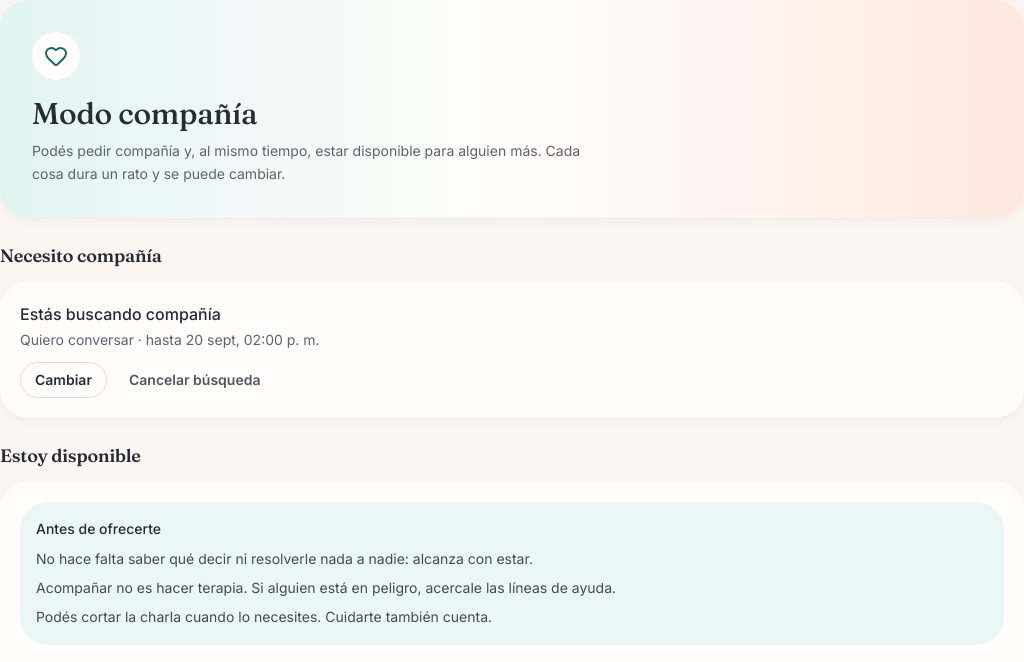
CompanionModePage › keeps the confirmed need when saving fails
Click the button "Cambiar".
click(64, 380)  # box [20,362,107,398]
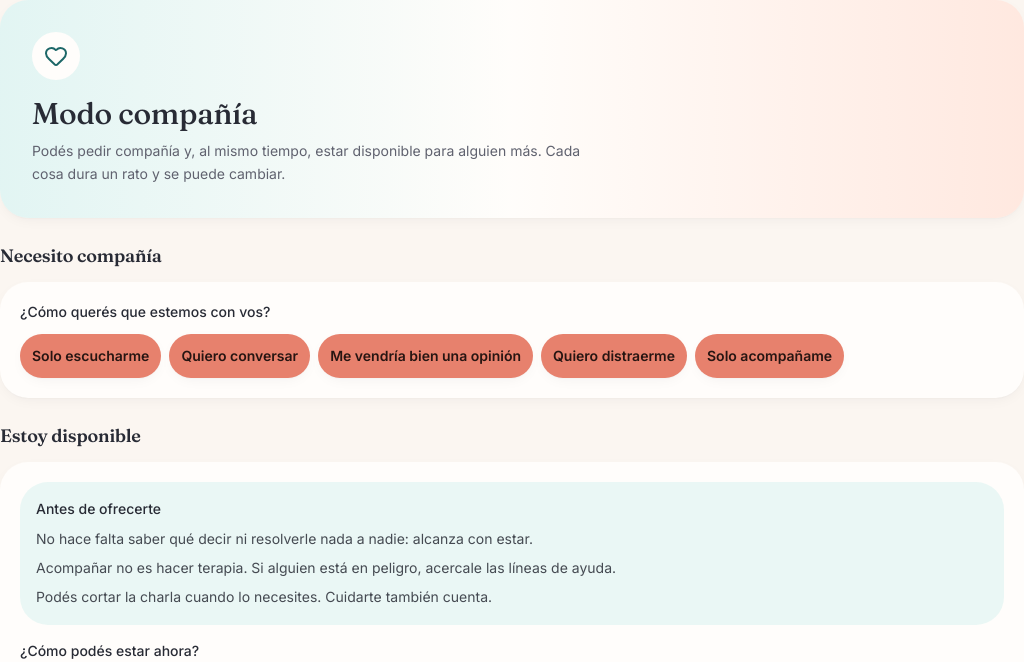
Click the button "Solo acompañame".
click(770, 356)  # box [695,334,844,378]
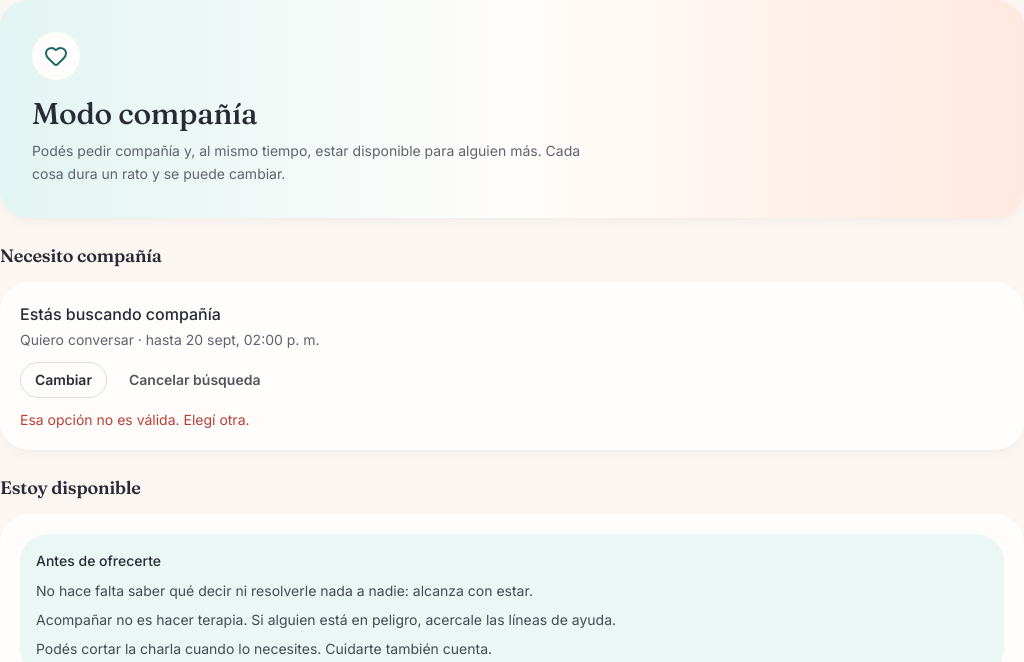
Now the text "Esa opción no es válida. Elegí otra." is shown, box [20,410,250,428]
Now the text "Quiero conversar · hasta 20 sept, 02:00 p. m." is shown, box [20,330,320,348]
